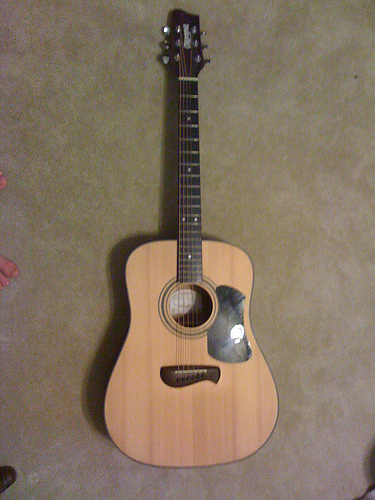guitar: (101, 5, 280, 468)
